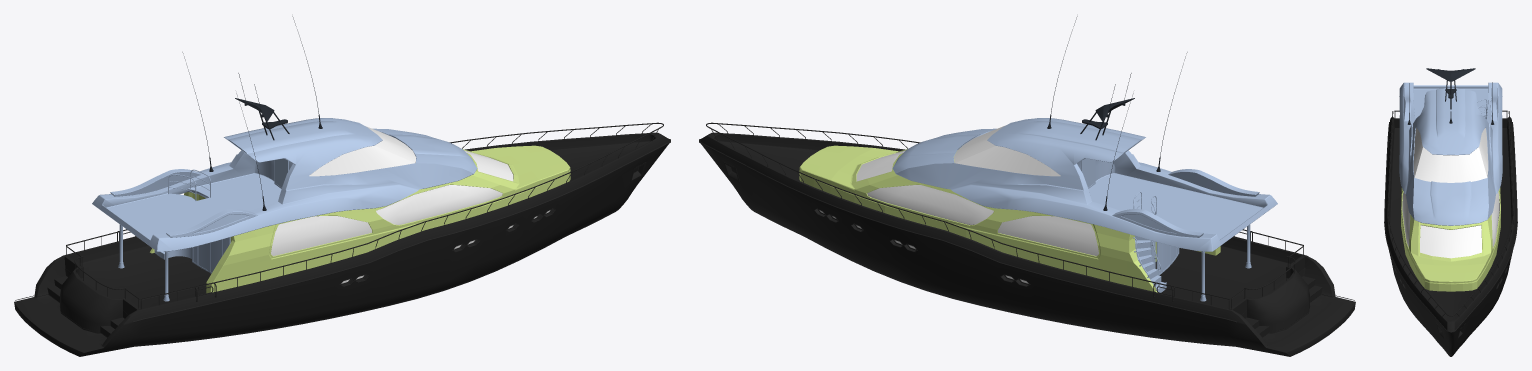
Rendered from boat.gltf.
The picture shows the model from 3 angles, left to right: view 1: azimuth 30°, elevation 25°; view 2: azimuth 150°, elevation 25°; view 3: azimuth 270°, elevation 25°; orthographic projection. The views are drawn at different scales.
Visible parts, largest first — view 1: default1, 02two, 01one, 03three; view 2: default1, 02two, 01one, 03three; view 3: 02two, default1, 01one, 03three.
Boxes of the visible parts, left/top/right/bottom form: default1: left=14, top=122, right=670, bottom=356; 02two: left=92, top=118, right=477, bottom=301; 01one: left=150, top=145, right=570, bottom=293; 03three: left=182, top=16, right=322, bottom=210; default1: left=699, top=122, right=1355, bottom=356; 02two: left=892, top=118, right=1277, bottom=301; 01one: left=799, top=145, right=1220, bottom=292; 03three: left=1047, top=16, right=1187, bottom=210; 02two: left=1399, top=82, right=1502, bottom=225; default1: left=1384, top=110, right=1517, bottom=356; 01one: left=1401, top=187, right=1500, bottom=291; 03three: left=1407, top=68, right=1494, bottom=124.
Size of the model in its own units: 10.49 by 4.68 by 2.46.
